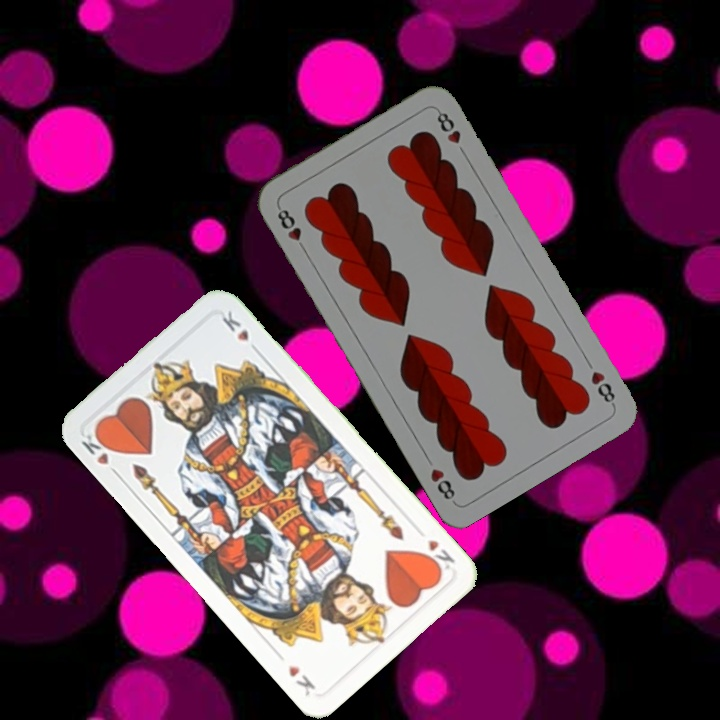H8: (273, 202, 310, 255), (586, 366, 618, 409)
HK: (77, 426, 118, 468), (419, 535, 458, 576)
